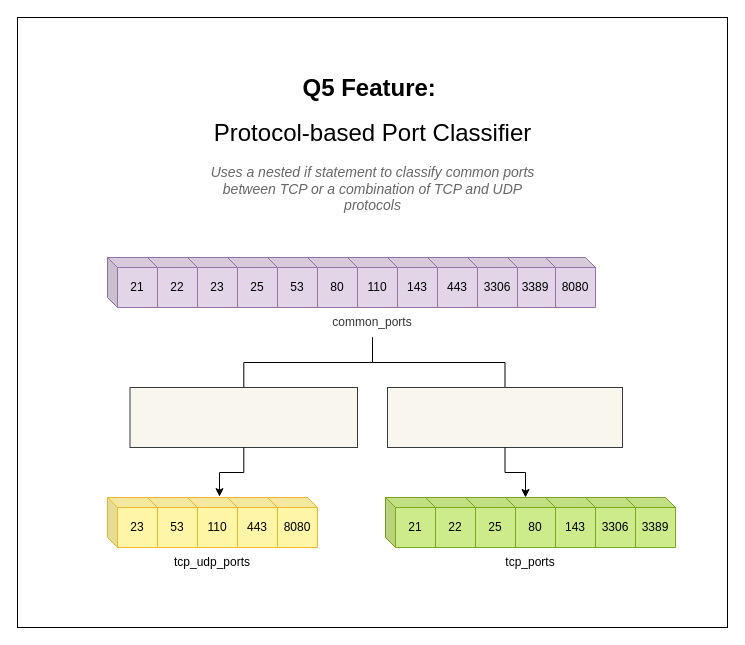
This 745x645 diagram has some shape labels left out. The shapes that lost their labels are listed below. From the top down, each one's centre as x and y in pixels, then its label:
At (x=243, y=417): "port for port in common_ports if port in [23, 53, 110, 443, 8080]".
At (x=504, y=417): "port for port in common_ports if port in [21, 22, 25, 80, 143, 3306, 3389]".
